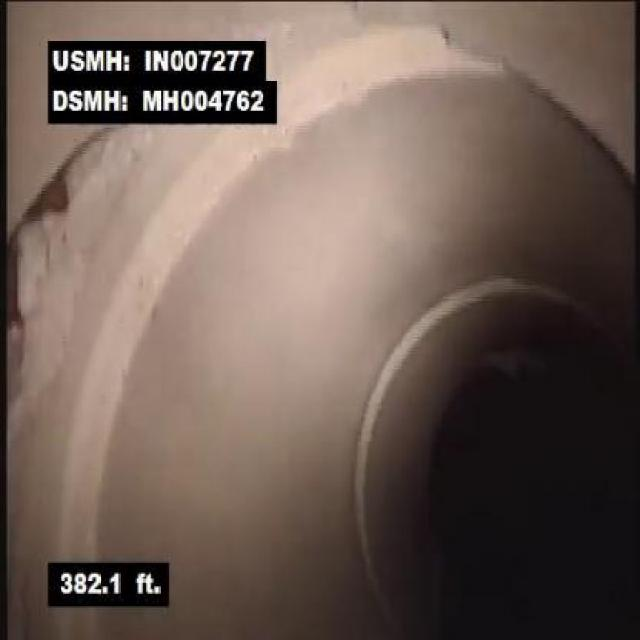Joint offset: (32, 122, 283, 566), (337, 227, 534, 518)
